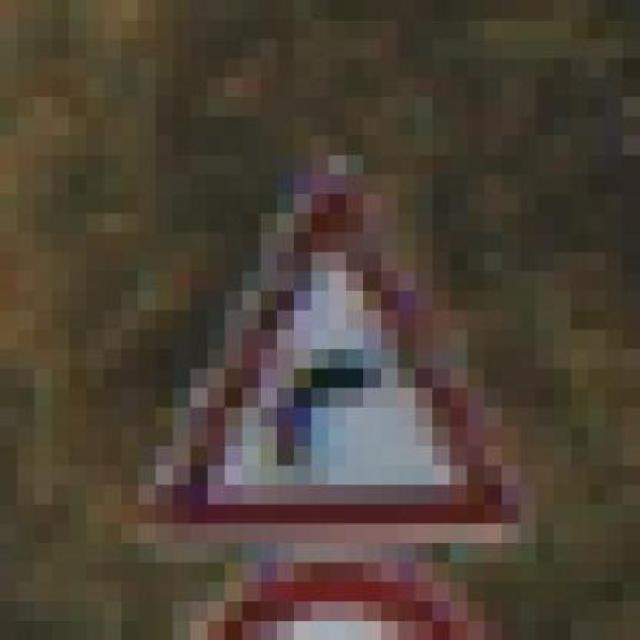Dangerous Rright Curve Ahead: (104, 135, 519, 563)
